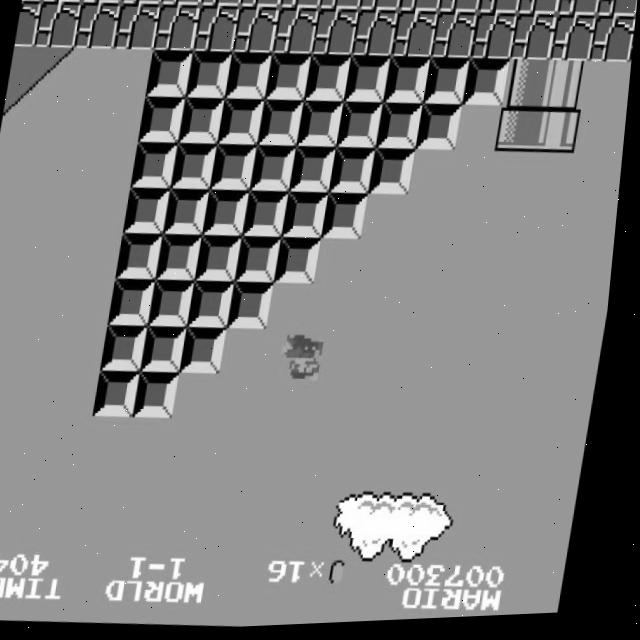11- little_mario: (285, 335, 335, 389)
14- pipe: (543, 64, 591, 114), (504, 62, 551, 113)
15- pipe_head: (536, 109, 584, 159), (497, 108, 545, 158)
17- undestructible_block: (431, 13, 479, 64), (351, 10, 399, 61), (153, 3, 201, 54), (589, 19, 637, 69), (550, 18, 598, 68), (510, 16, 558, 66), (391, 12, 439, 62), (272, 8, 320, 58), (113, 2, 161, 52), (73, 1, 121, 51), (34, 0, 82, 50), (233, 6, 280, 57), (193, 5, 240, 56), (471, 15, 518, 65), (312, 9, 359, 59), (15, 0, 41, 47), (596, 0, 639, 24), (556, 0, 601, 22), (517, 0, 562, 21), (477, 0, 522, 20), (437, 0, 482, 18), (398, 0, 443, 17), (358, 0, 403, 15), (318, 0, 363, 14), (278, 0, 323, 12), (239, 0, 283, 11), (199, 0, 243, 10), (159, 0, 203, 8), (119, 0, 163, 7), (79, 0, 123, 5)
9- hard_block: (464, 60, 512, 111), (424, 59, 472, 110), (378, 103, 426, 154), (325, 193, 373, 244), (305, 55, 353, 106), (259, 99, 307, 150), (186, 326, 234, 377), (153, 279, 201, 330), (166, 188, 214, 239), (179, 96, 227, 147), (106, 323, 154, 374), (113, 278, 161, 329), (384, 58, 432, 108), (338, 102, 386, 152), (345, 57, 393, 107), (278, 238, 326, 288), (285, 192, 333, 242), (232, 282, 280, 332), (239, 237, 287, 287), (265, 54, 313, 104), (192, 281, 240, 331), (219, 98, 267, 148), (146, 325, 194, 375), (186, 51, 234, 101), (133, 141, 181, 191), (206, 189, 253, 240), (226, 52, 273, 103), (127, 186, 174, 237), (140, 95, 187, 146), (371, 150, 419, 199), (252, 146, 300, 195), (199, 236, 247, 285), (173, 143, 221, 192), (100, 370, 148, 419), (418, 105, 465, 155), (332, 148, 379, 198), (292, 147, 339, 197), (299, 101, 346, 151), (246, 191, 293, 241), (140, 371, 187, 421), (160, 234, 207, 284), (120, 233, 167, 283), (147, 50, 194, 100), (213, 145, 260, 194)
